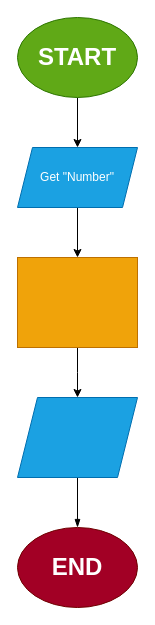
This 155x625 diagram has some shape labels left out. Each missing label, with the centre of its shape:
Print "The Square Root of (number) is (square root): point (77, 437)
Set "square root" to the square root of the number: point (77, 302)
